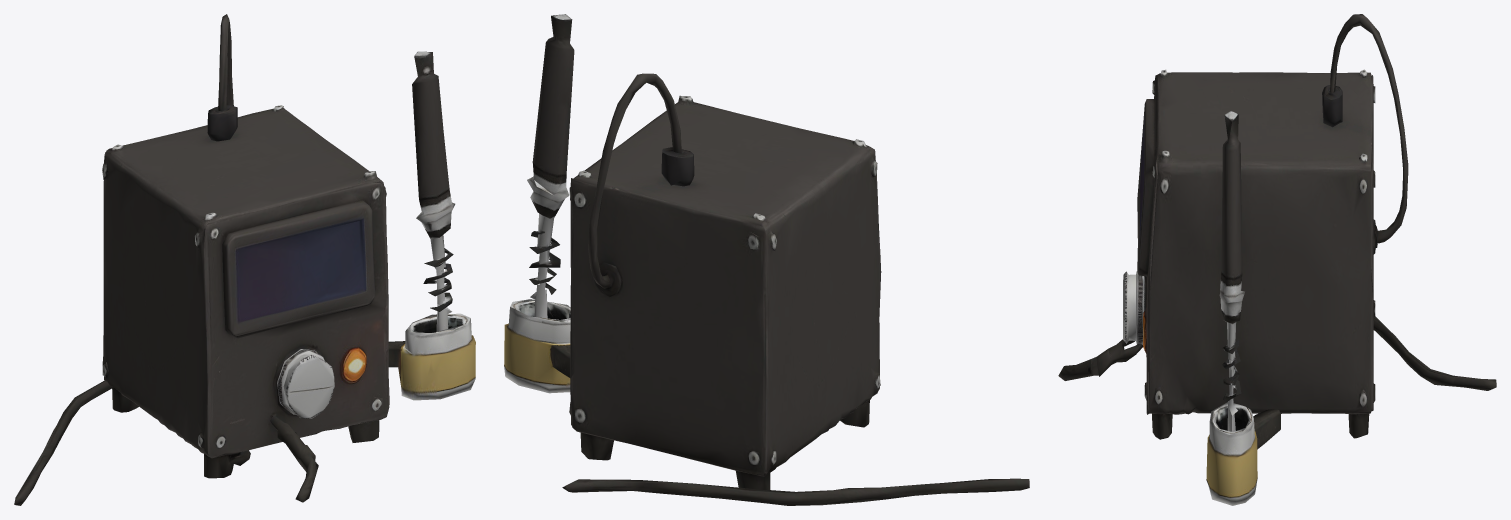
File: 17_soldering_station.glb
The picture shows the model from 3 angles, left to right: view 1: azimuth 30°, elevation 25°; view 2: azimuth 150°, elevation 25°; view 3: azimuth 270°, elevation 25°; orthographic projection. The views are drawn at different scales.
Visible parts, largest first — view 1: tripo_node_86e23643-ce8d-418b-bbec-64e1c813e73c; view 2: tripo_node_86e23643-ce8d-418b-bbec-64e1c813e73c; view 3: tripo_node_86e23643-ce8d-418b-bbec-64e1c813e73c.
Part boxes in pixels (x1,y1,x2,y2): tripo_node_86e23643-ce8d-418b-bbec-64e1c813e73c: (14,14,475,505); tripo_node_86e23643-ce8d-418b-bbec-64e1c813e73c: (504,14,1029,505); tripo_node_86e23643-ce8d-418b-bbec-64e1c813e73c: (1058,14,1496,505).
Size of the model in its own units: 0.24 by 0.18 by 0.18.
1 material, 1 textured.
